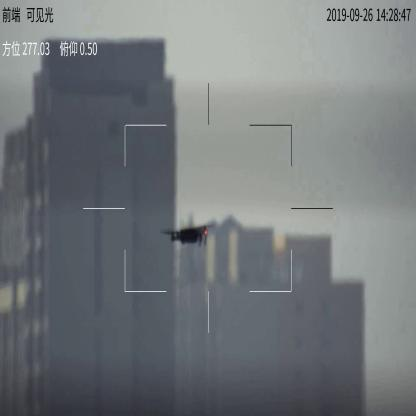uav: (161, 223, 212, 245)
